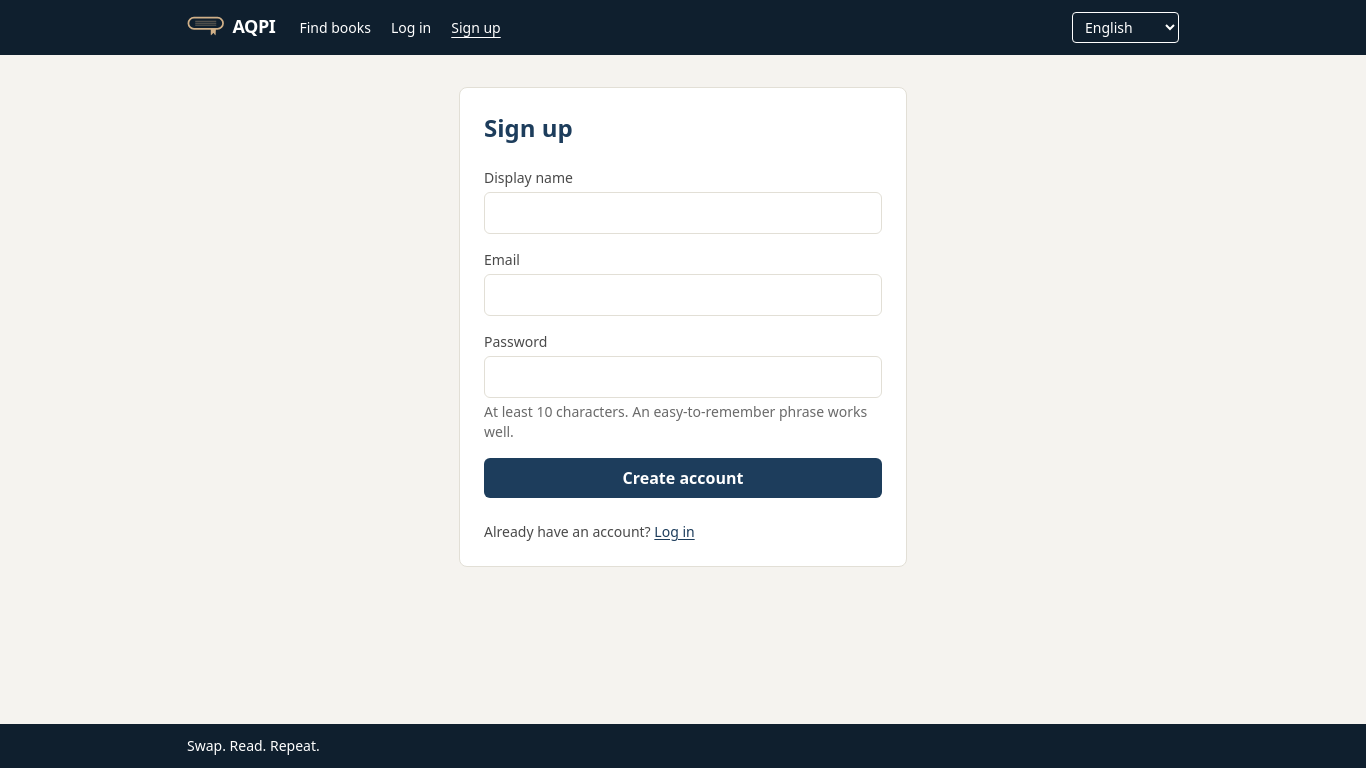
it: registration › sends the current UI language and asks the user to check their email
In the field labelled "Display name": (683, 213) left=484, top=192, right=882, bottom=234, type "Ben"
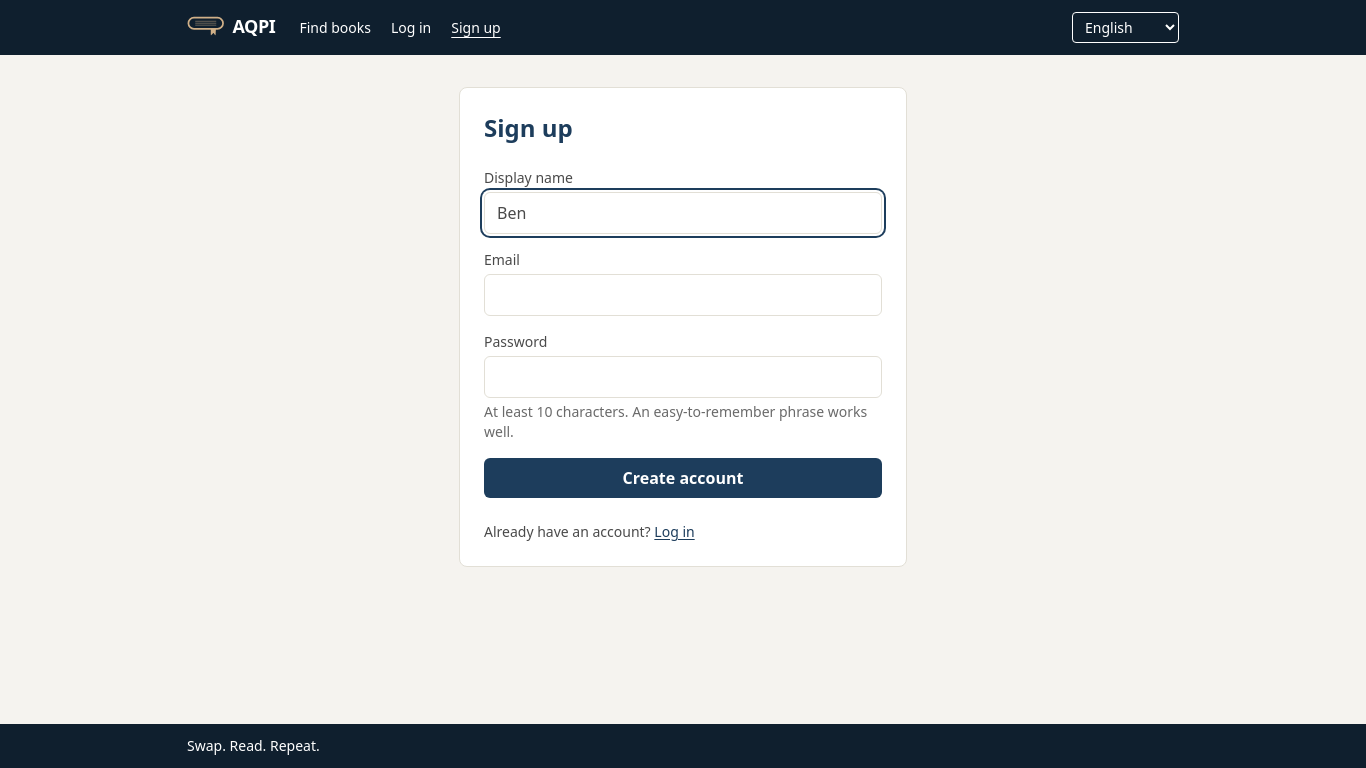
In the field labelled "Email": (683, 295) left=484, top=274, right=882, bottom=316, type "ben@example.test"
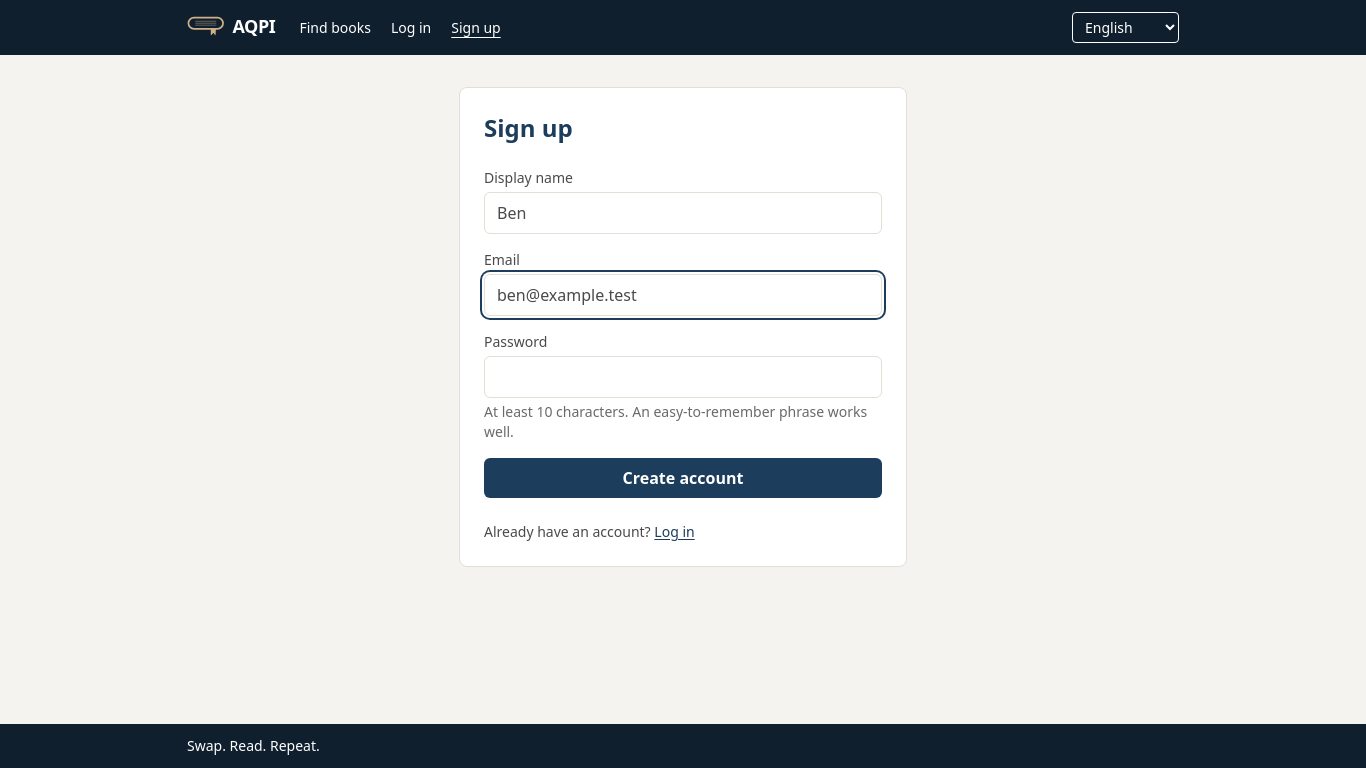
In the password field labelled "Password": (683, 377) left=484, top=356, right=882, bottom=398, type "correct horse battery"
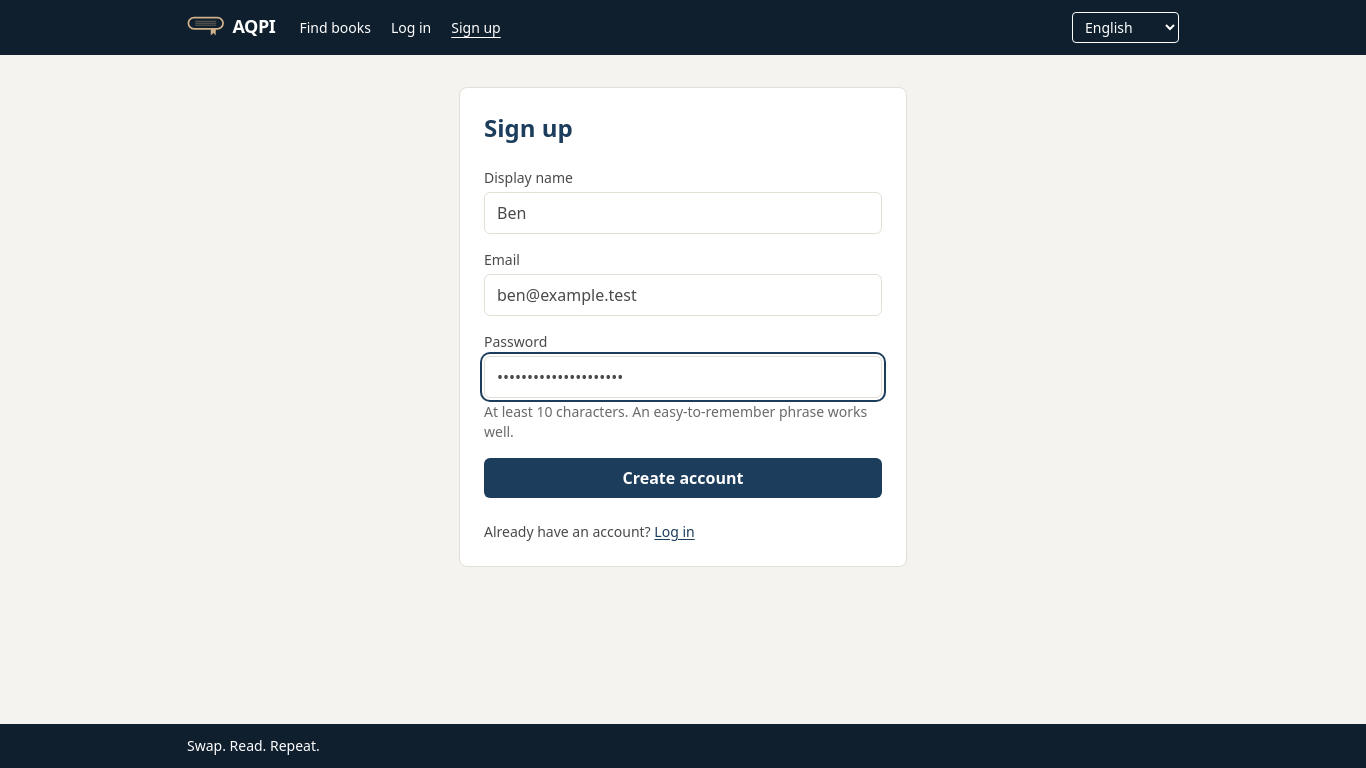
Click the button "Create account": (683, 478) left=484, top=458, right=882, bottom=498
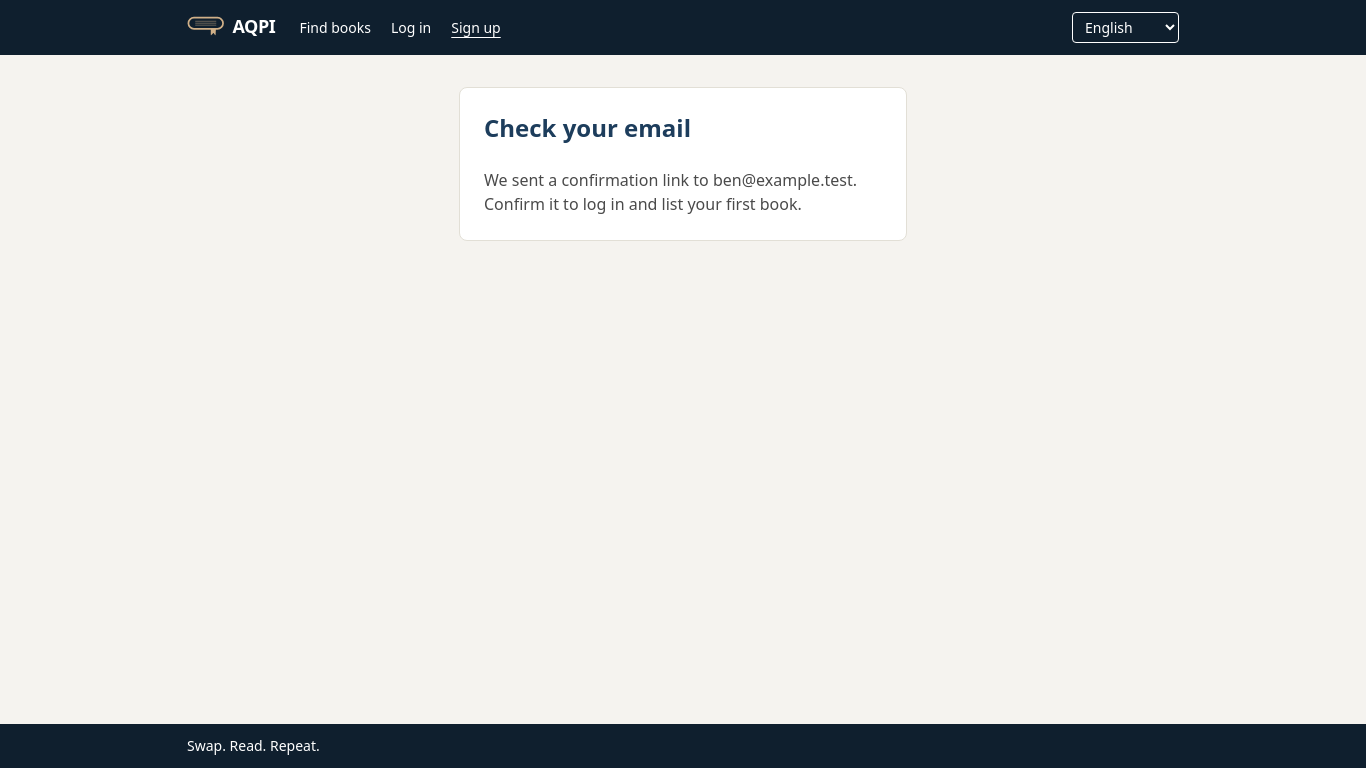
Expected: the heading "Check your email" is shown, left=484, top=111, right=691, bottom=144
Expected: the text "ben@example.test" is shown, left=484, top=169, right=857, bottom=215
